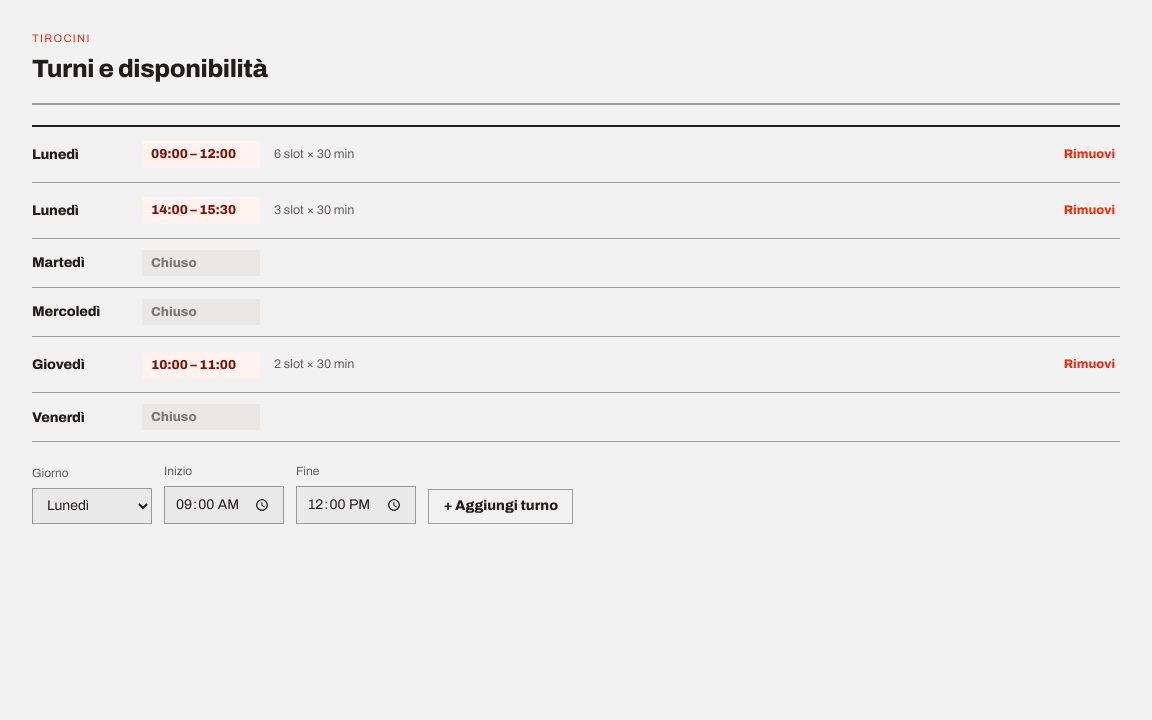
Scenario: AvailabilityView › explains why a shift with bookings cannot be removed
The width and height of the screenshot is (1152, 720).
Step 1. Click the button "Rimuovi" in the row of "6 slot × 30 min" → (1089, 154), box [1059,138,1120,171]
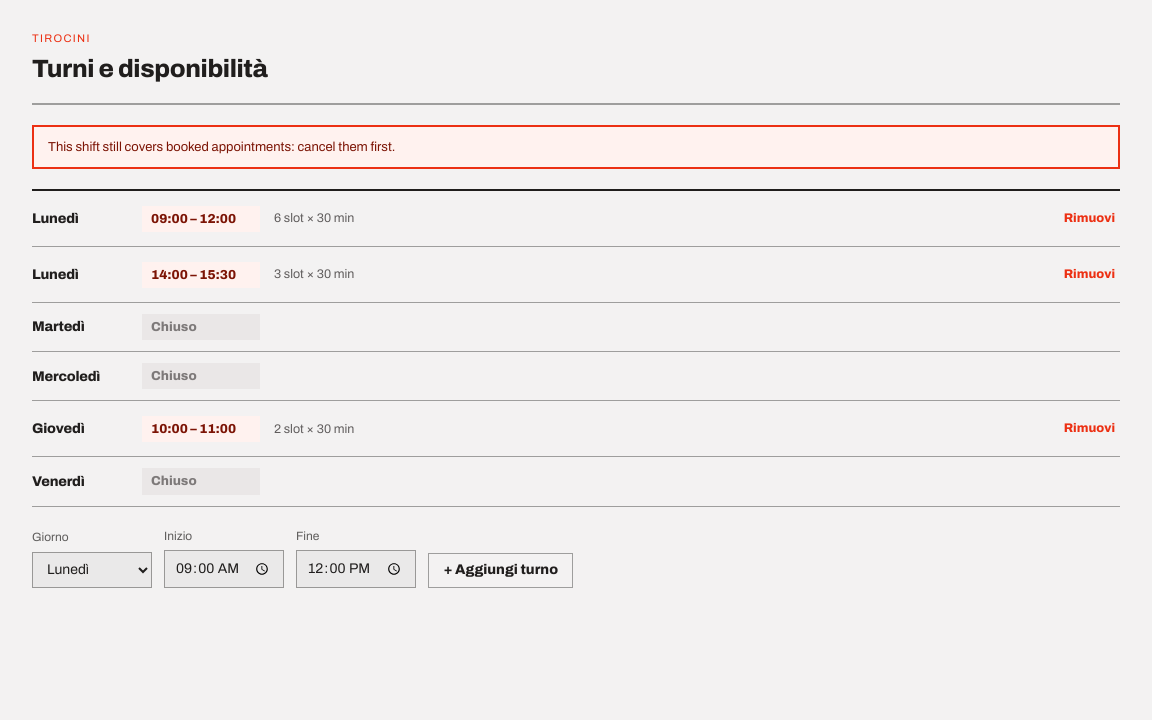
Expected: the message "This shift still covers booked appointments: cancel them first." is shown, [32,125,1120,169]
